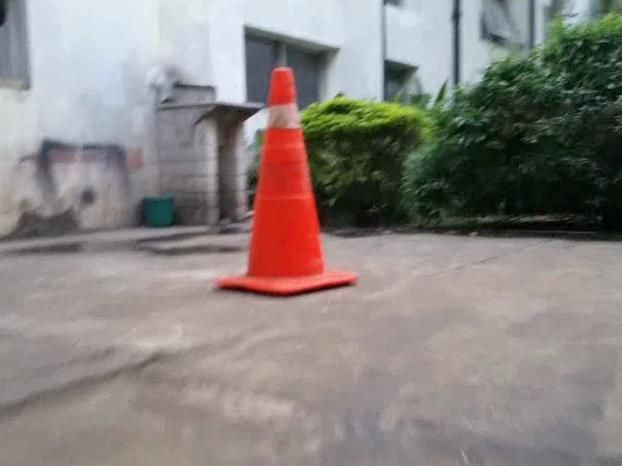0 cone: (219, 69, 358, 292)
